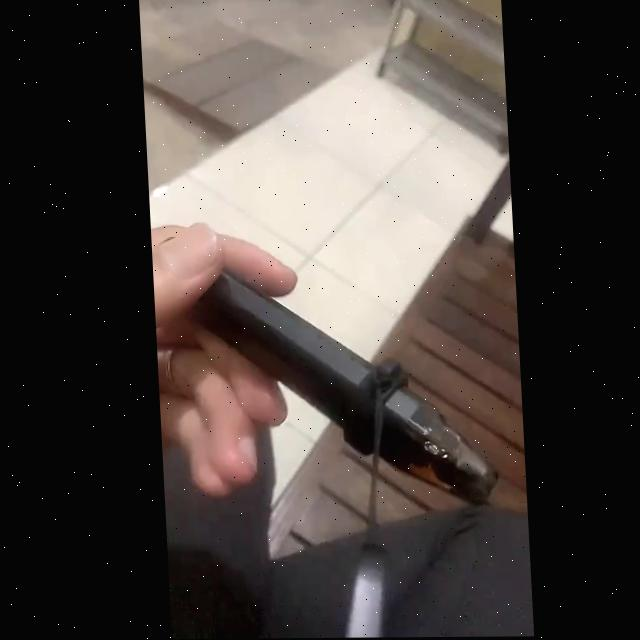vape: (180, 271, 500, 508)
